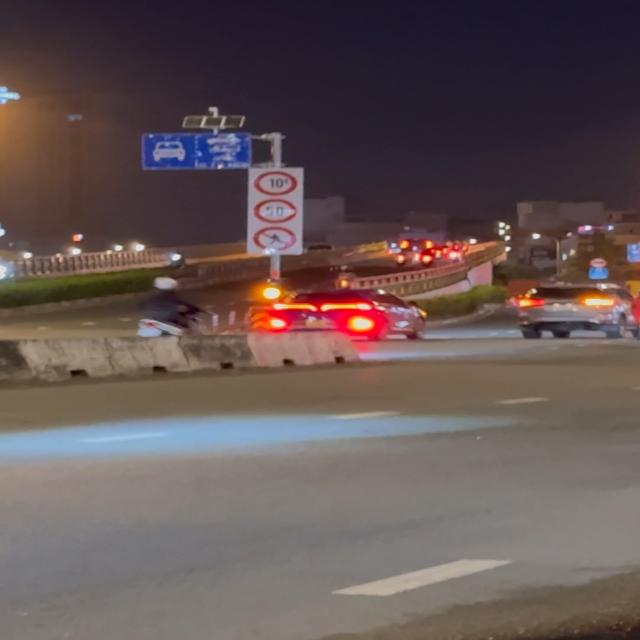Bien bao cam nguoi di bo: (250, 225, 299, 252)
Bien bao toc do toi da cho phep: (250, 198, 300, 225)
